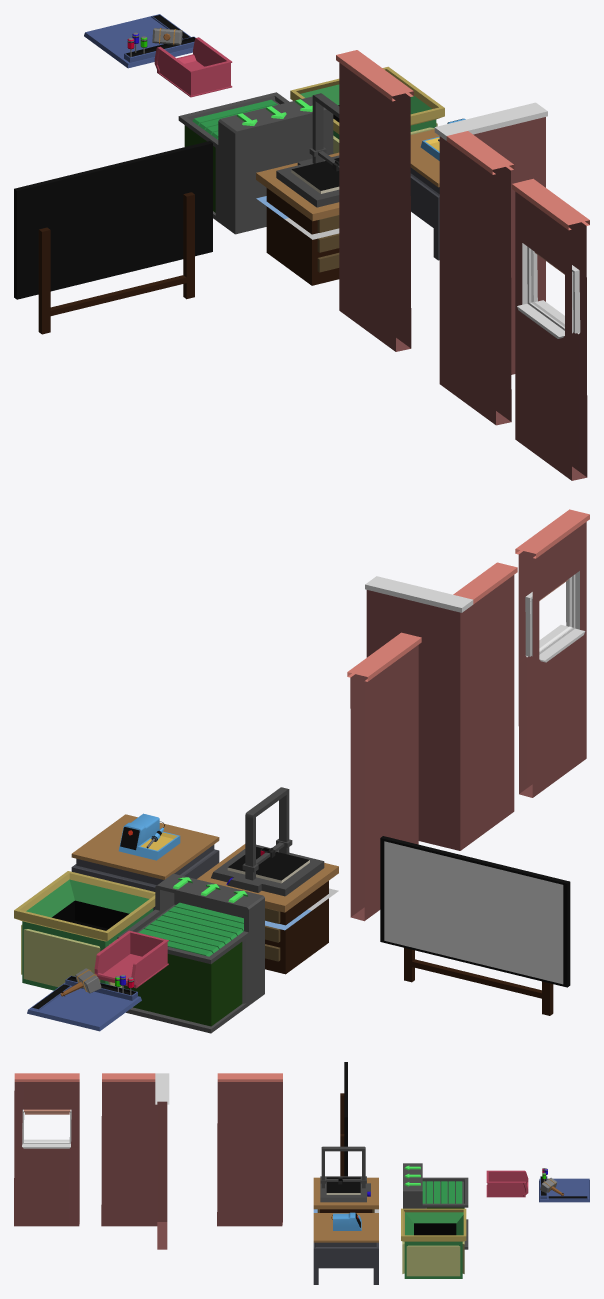
Rendered from SceneObjecten2.fbx.
3 renders of one model, top to bottom at view 1: azimuth 30°, elevation 25°; view 2: azimuth 150°, elevation 25°; view 3: azimuth 270°, elevation 25°, orthographic. The views are drawn at different scales.
Visible parts, largest first — view 1: Muur_corner, WhiteBoard, Muur_base, Muur_raam, Deposit, Storage, Werkplaat, OnderdelenBak, Workbench, ThrashCan, 3DPrinter, Plate; view 2: Muur_corner, WhiteBoard, Muur_raam, Deposit, Muur_base, ThrashCan, Workbench, Storage, Werkplaat, 3DPrinter, OnderdelenBak, Soldeerbout (+1 smaller); view 3: Muur_corner, Muur_base, Muur_raam, ThrashCan, Workbench, Deposit, Werkplaat, 3DPrinter, OnderdelenBak, Storage, WhiteBoard, Soldeerbout (+1 smaller).
Part boxes in pixels (x1,y1,x2,y2): Muur_corner: (434,102,547,425); WhiteBoard: (14,141,212,334); Muur_base: (336,50,413,351); Muur_raam: (512,178,589,480); Deposit: (178,92,333,234); Storage: (256,152,339,285); Werkplaat: (84,14,195,68); OnderdelenBak: (154,37,232,97); Workbench: (410,129,439,260); ThrashCan: (290,66,444,153); 3DPrinter: (276,93,339,207); Plate: (291,158,339,193); Muur_corner: (365,562,517,850); WhiteBoard: (380,836,570,1015); Muur_raam: (515,509,589,797); Deposit: (117,873,264,1033); Muur_base: (347,632,421,921); ThrashCan: (14,871,155,990); Workbench: (71,814,219,910); Storage: (197,844,338,974); Werkplaat: (27,968,141,1031); 3DPrinter: (211,787,324,896); OnderdelenBak: (94,930,168,988); Soldeerbout: (118,813,180,860); Muur_corner: (101,1073,169,1249); Muur_base: (217,1073,282,1226); Muur_raam: (14,1073,79,1226); ThrashCan: (401,1208,466,1278); Workbench: (313,1213,378,1284); Deposit: (403,1163,468,1249); Werkplaat: (539,1168,589,1202); 3DPrinter: (320,1146,370,1202); OnderdelenBak: (486,1170,528,1197); Storage: (313,1177,378,1212); WhiteBoard: (340,1062,347,1176); Soldeerbout: (331,1212,361,1230).
Bounding box in the file's own units: 1005 × 500 × 1765.
